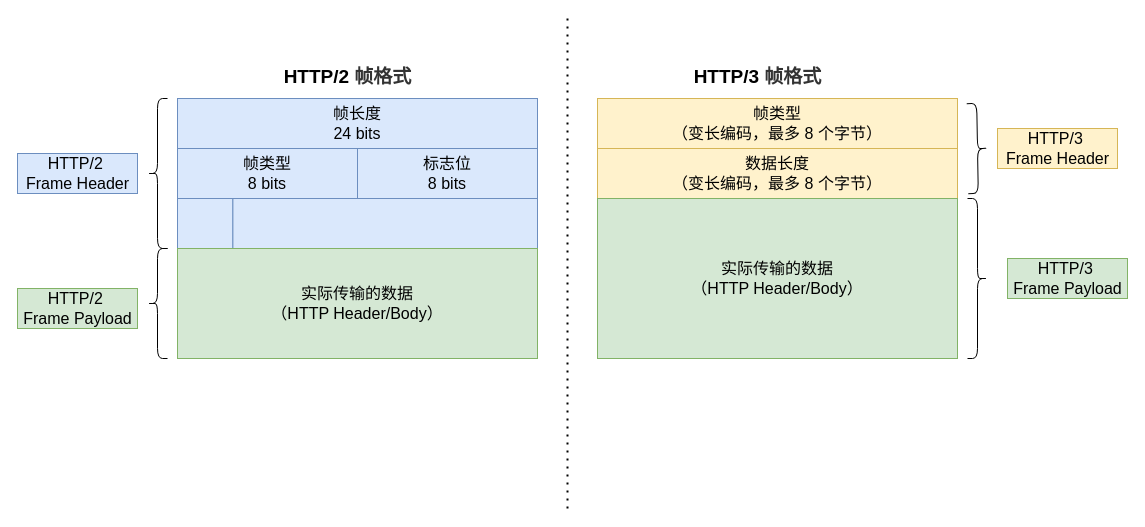
Some shapes in this 1145 by 527 pixel diagram are drawn without their labels. Here are the shapes that lost their labels. From the top down, the centre of each, then its label:
the point at 204,223: R 1 bits
the point at 385,223: 流标识符 31 bits
